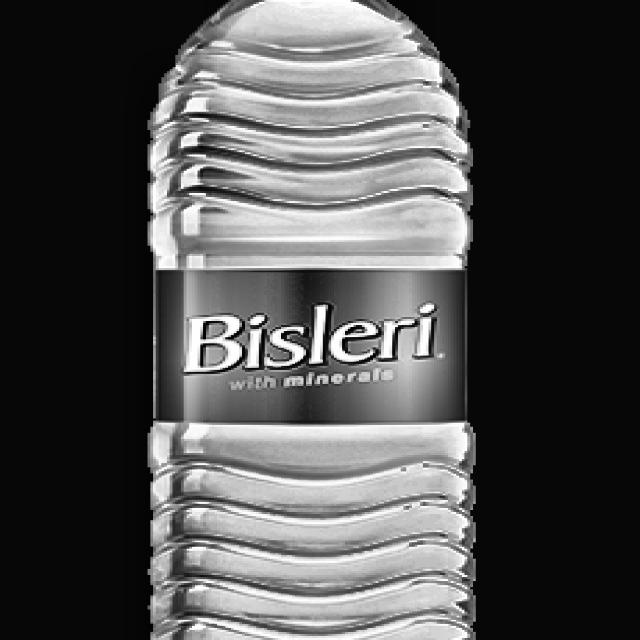bottle: (145, 0, 481, 640)
